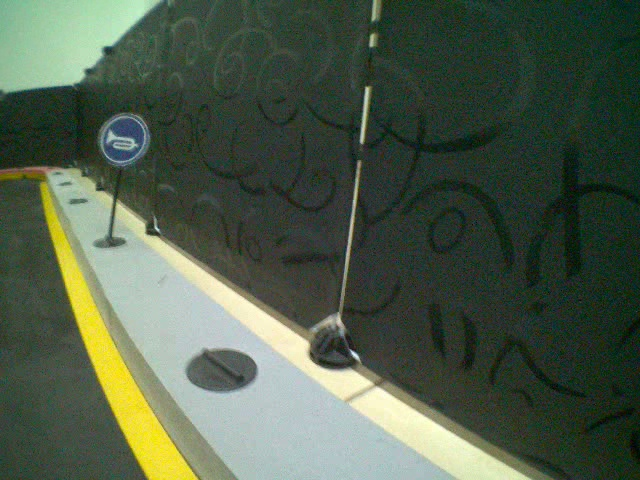horn: (97, 112, 153, 168)
